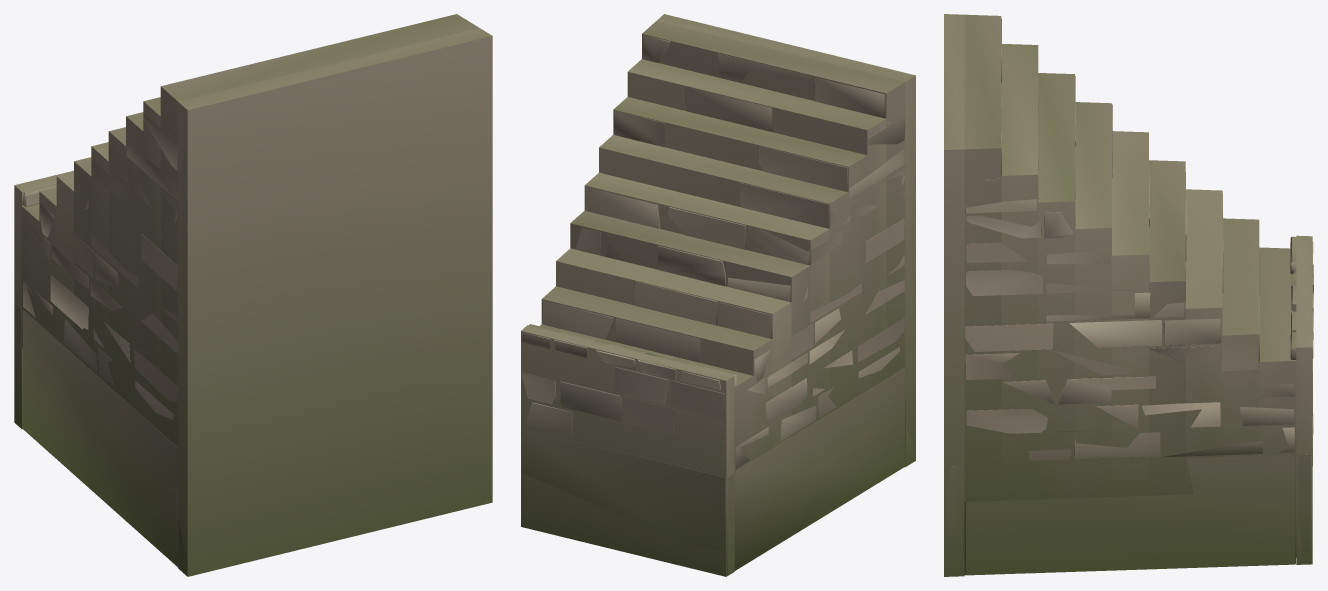
The model's file is arena_seats_a.glb.
3 renders of one model, left to right at view 1: azimuth 30°, elevation 25°; view 2: azimuth 150°, elevation 25°; view 3: azimuth 270°, elevation 25°, orthographic. The views are drawn at different scales.
Visible parts, largest first — view 1: arena_seats_a_far, arena_seats_a; view 2: arena_seats_a_far, arena_seats_a; view 3: arena_seats_a_far, arena_seats_a.
Boxes of the visible parts, x1,y1,x2,y2 form: arena_seats_a_far: (14,14,492,576); arena_seats_a: (15,113,186,574); arena_seats_a_far: (521,14,915,576); arena_seats_a: (521,35,914,574); arena_seats_a_far: (944,14,1312,576); arena_seats_a: (947,18,1313,576).
Size of the model in its own units: 15.72 by 23.01 by 18.06.
